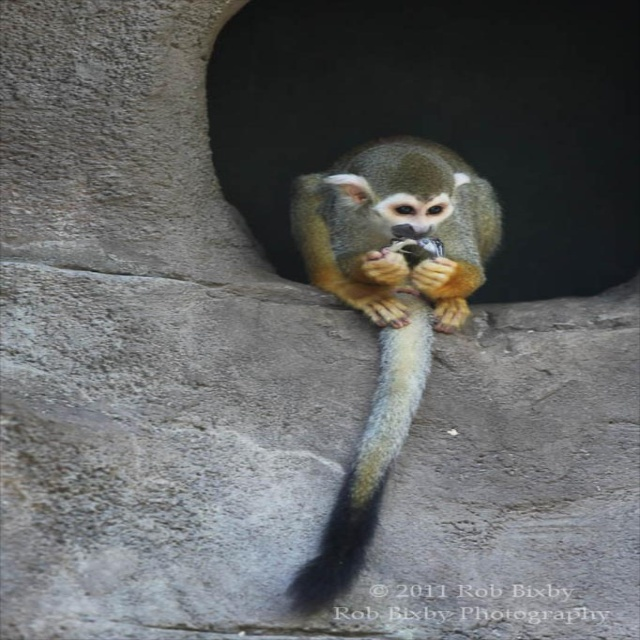Monkey: (291, 136, 503, 616)
